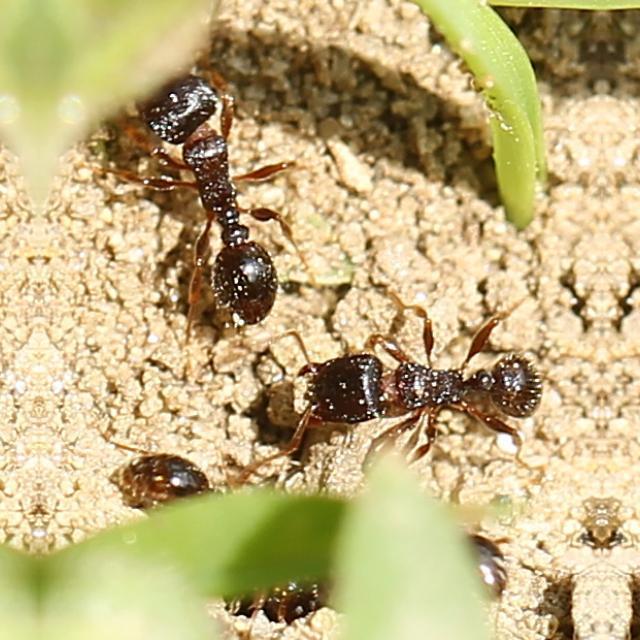Tetramorium: (116, 69, 318, 339), (278, 321, 552, 457)
